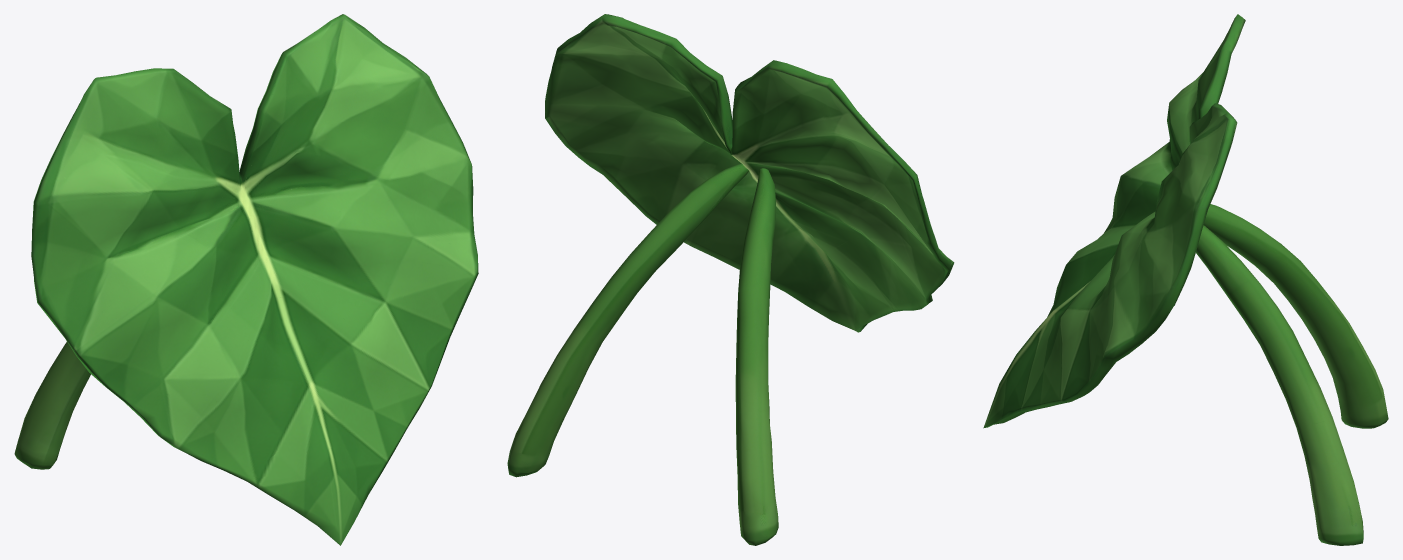
Rendered from Meshy_AI_Emerald_Heart_Leaf_0919211338_texture.glb.
The picture shows the model from 3 angles, left to right: view 1: azimuth 30°, elevation 25°; view 2: azimuth 150°, elevation 25°; view 3: azimuth 270°, elevation 25°; orthographic projection. The views are drawn at different scales.
Bounding box in the file's own units: 1 × 1 × 0.8926.
1 material, 1 textured.
